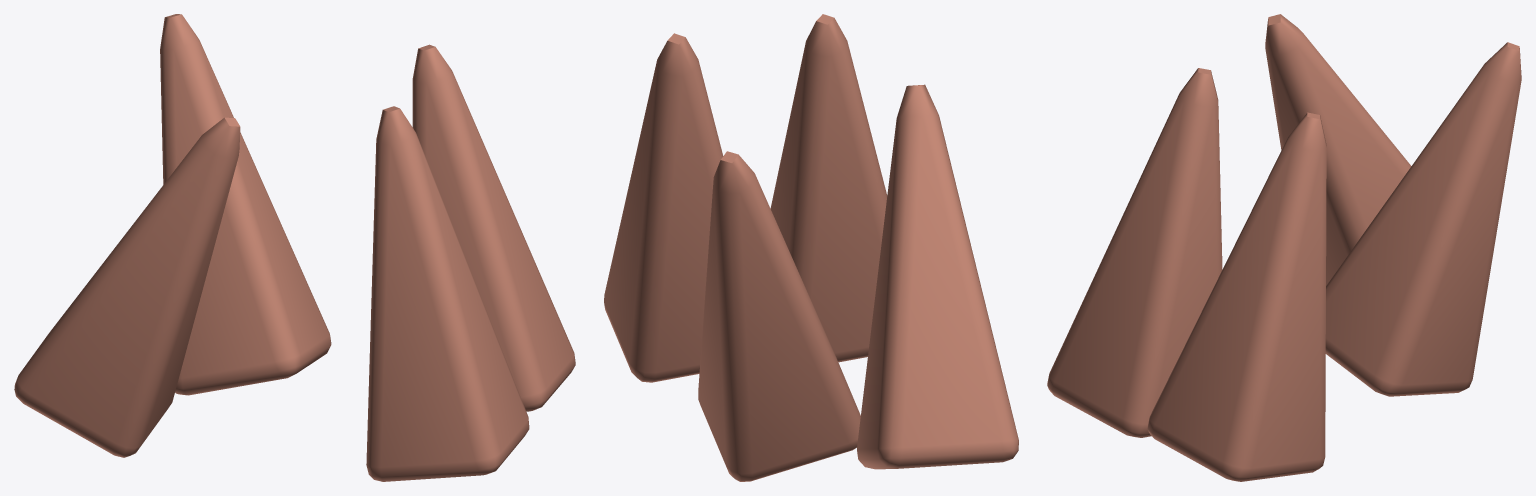
The model's file is ENV_Ember_Cinderleaf_S.fbx.
The picture shows the model from 3 angles, left to right: view 1: azimuth 30°, elevation 25°; view 2: azimuth 150°, elevation 25°; view 3: azimuth 270°, elevation 25°; orthographic projection. The views are drawn at different scales.
Parts seen in each view (by area): view 1: ENV_Ember_Cinderleaf_S; view 2: ENV_Ember_Cinderleaf_S; view 3: ENV_Ember_Cinderleaf_S.
Boxes of the visible parts, <box> form: ENV_Ember_Cinderleaf_S: <box>14,14,575,481</box>; ENV_Ember_Cinderleaf_S: <box>604,14,1018,481</box>; ENV_Ember_Cinderleaf_S: <box>1047,14,1521,481</box>.
Size of the model in its own units: 0.9233 by 0.6389 by 0.7986.
